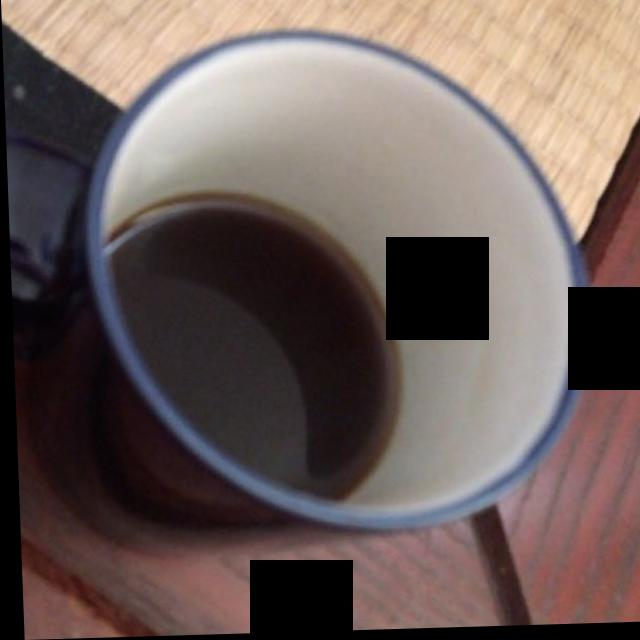coffee-with-caffeine: (115, 195, 399, 494)
